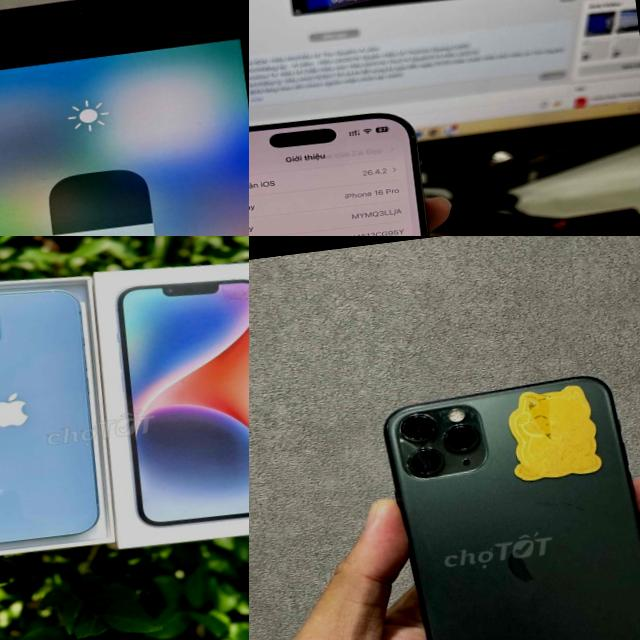gen_11: (374, 355, 640, 640)
gen_14: (0, 272, 119, 558)
gen_16: (249, 113, 426, 236)
gen_7_8: (0, 0, 249, 236)
